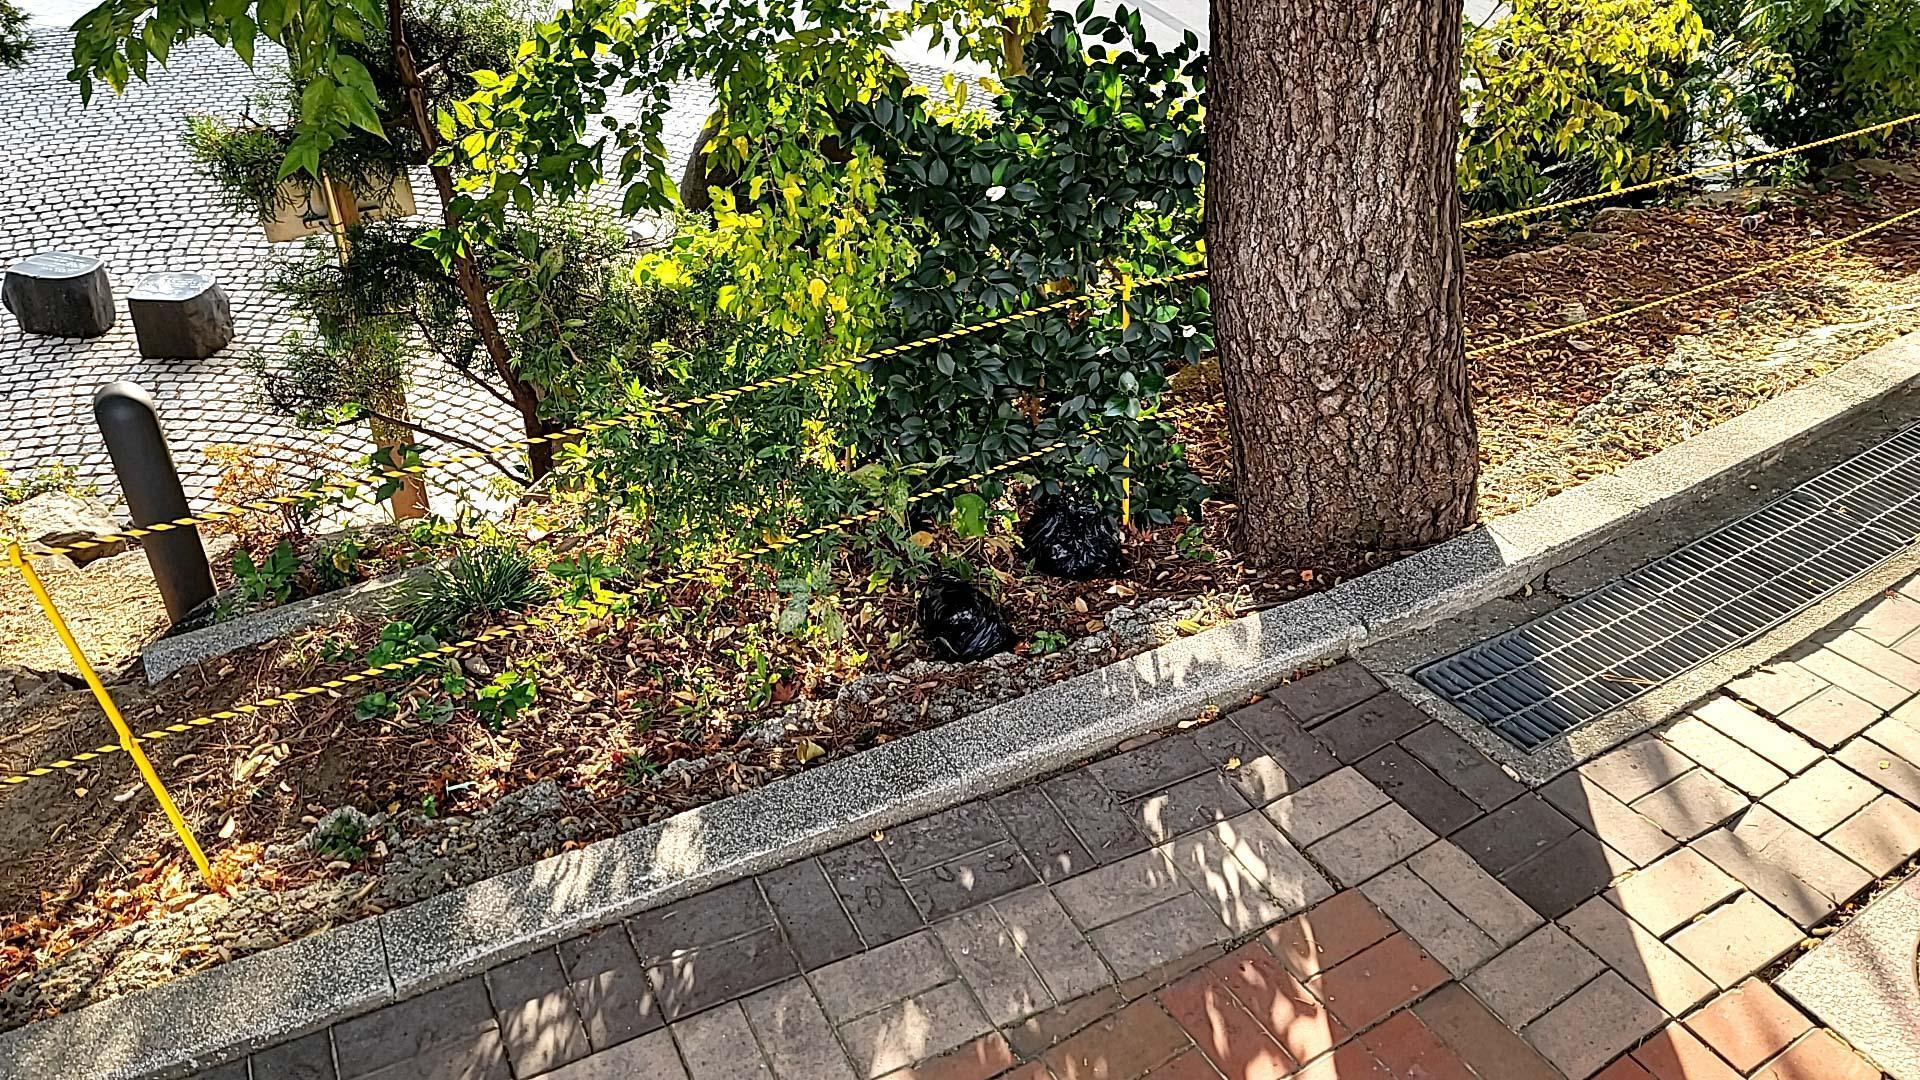black_bag: (1021, 485, 1131, 580), (909, 576, 1018, 657)
